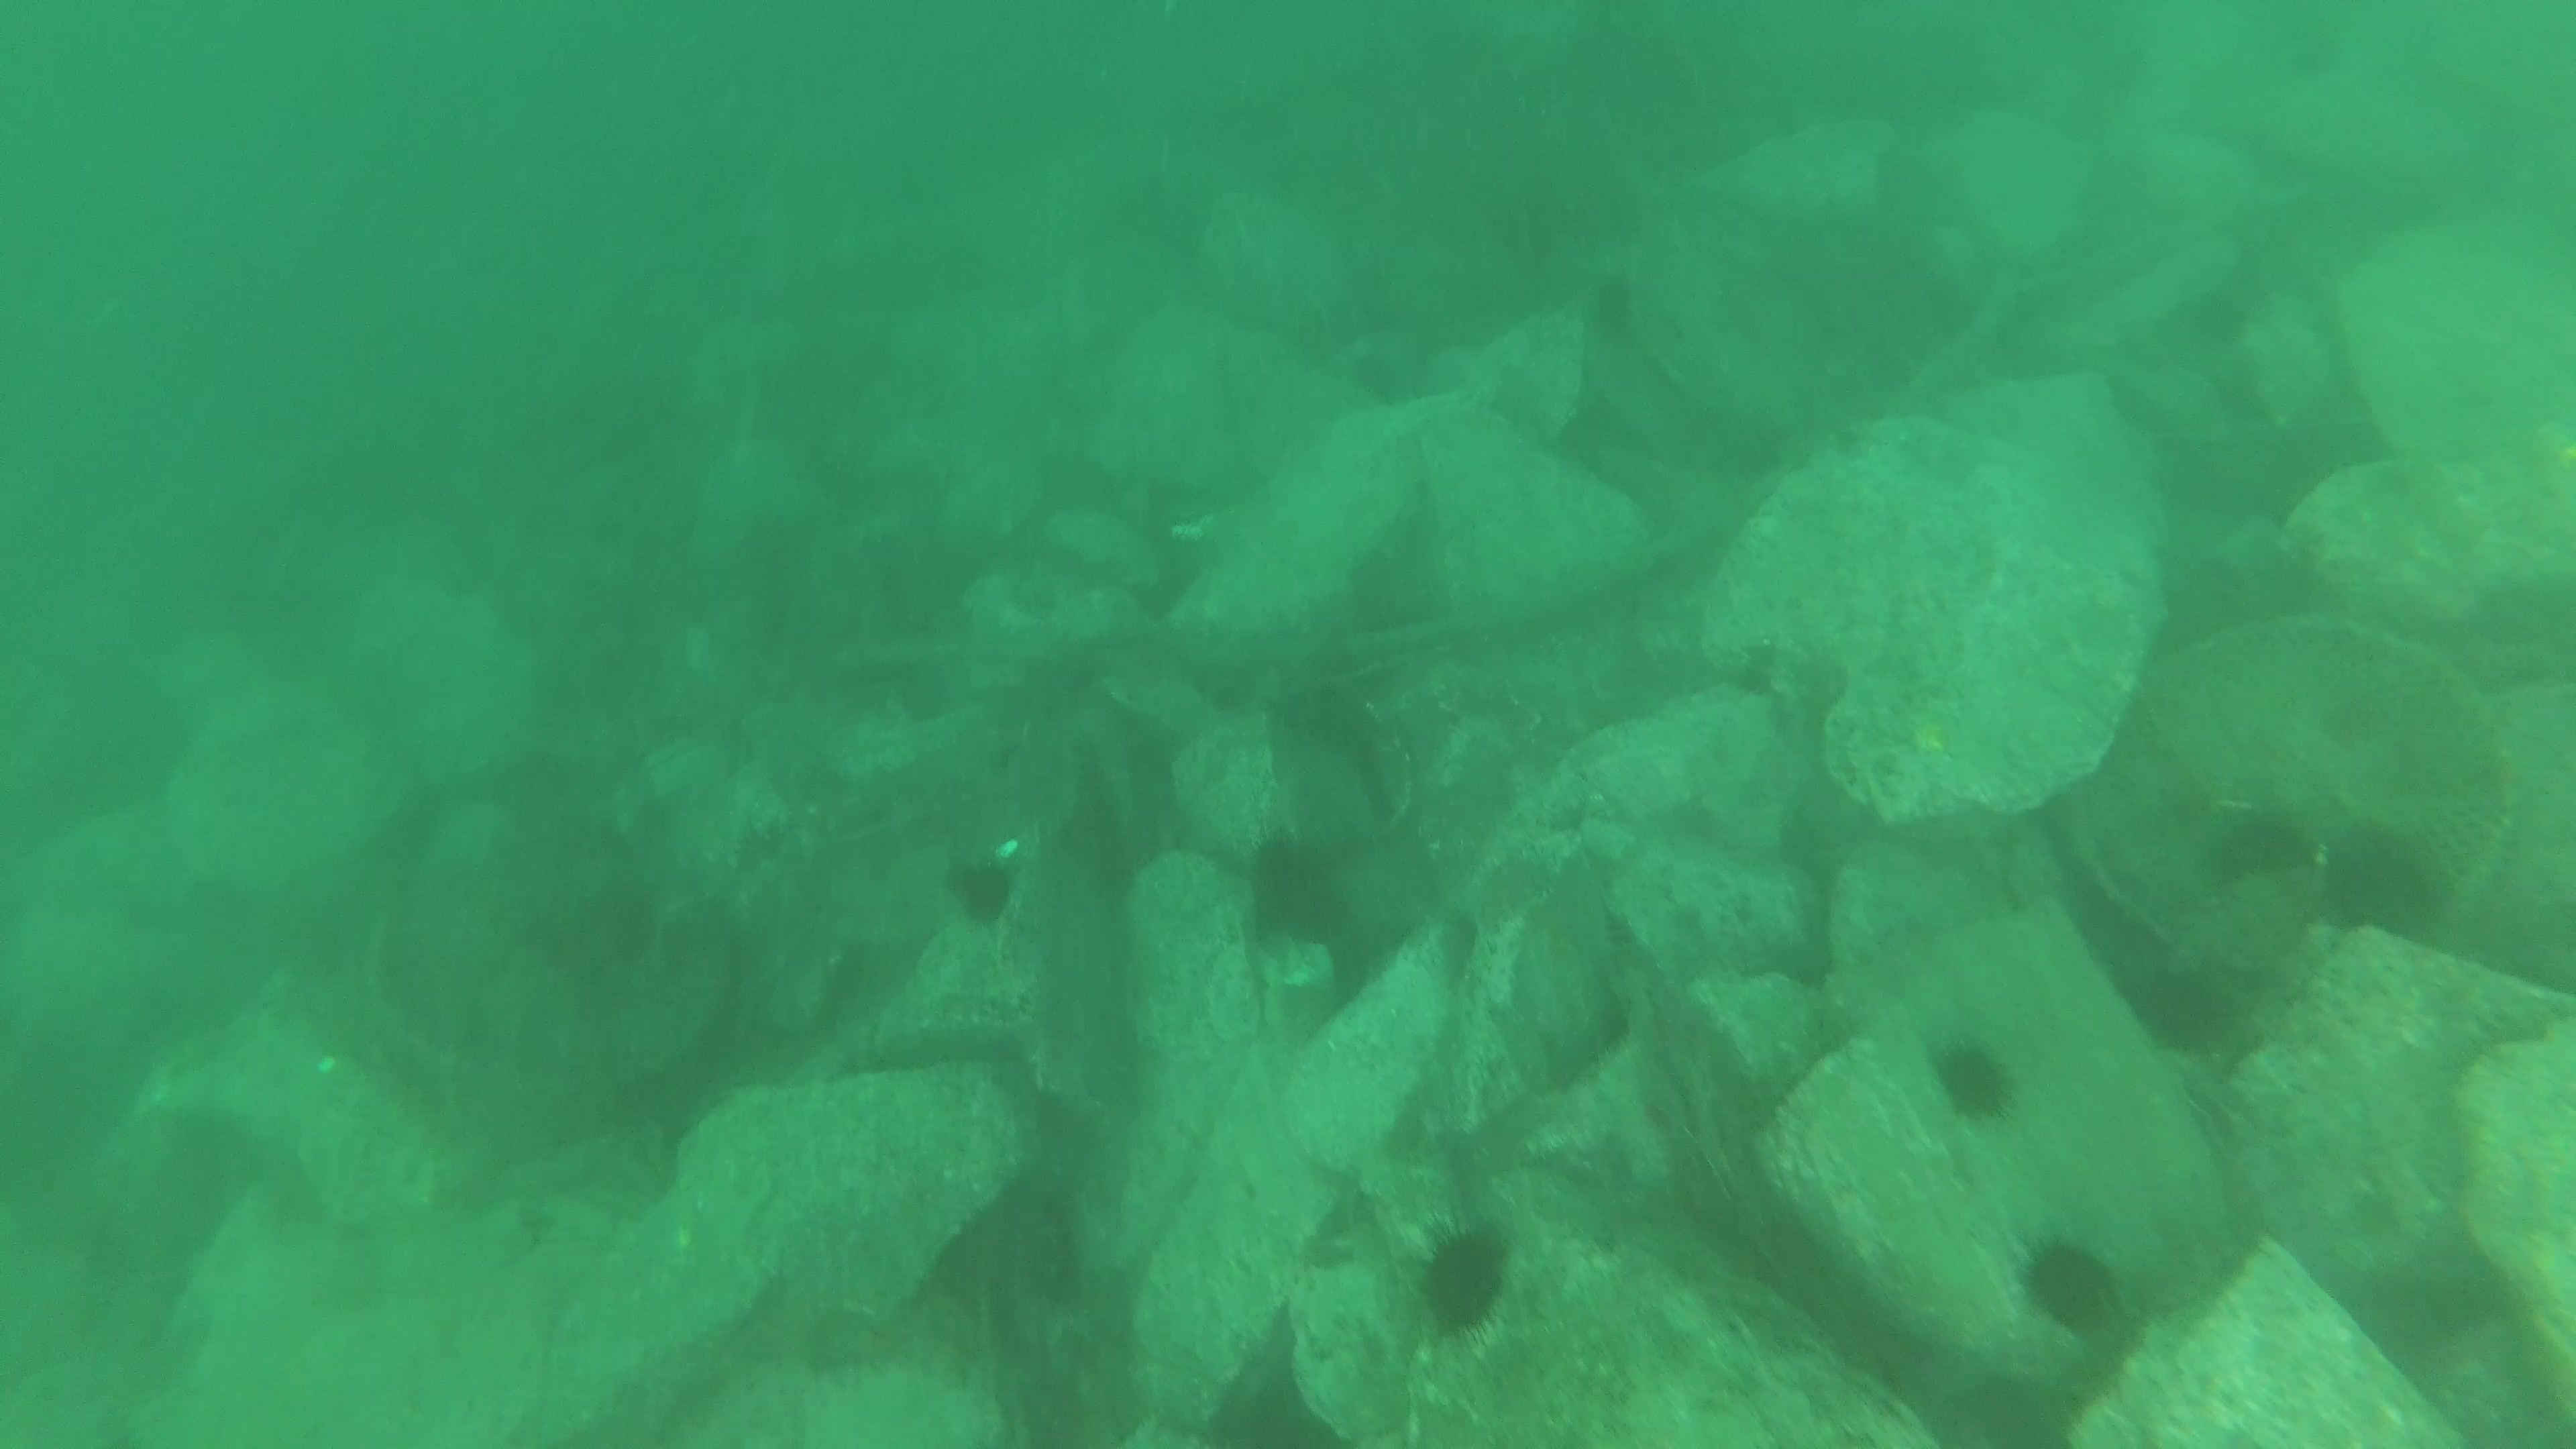echinus: (2323, 824, 2457, 950), (1401, 1219, 1518, 1323), (2114, 959, 2229, 1063), (2006, 1231, 2111, 1330), (2208, 809, 2304, 892), (1925, 1033, 2015, 1113), (936, 862, 1019, 925)
